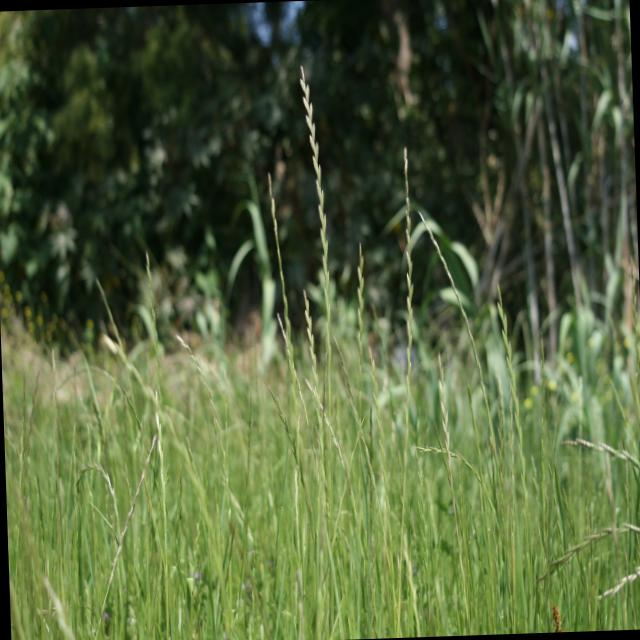Lolium: (376, 149, 446, 638), (73, 427, 169, 640), (338, 232, 386, 638), (424, 212, 496, 456), (296, 65, 334, 319), (270, 167, 300, 416), (498, 284, 528, 518), (538, 520, 640, 580), (298, 291, 327, 487), (568, 427, 640, 470)
